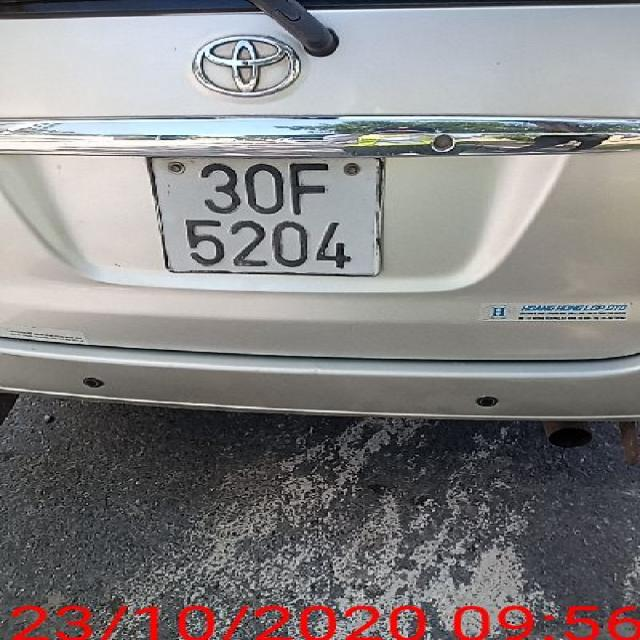car_plate: (134, 156, 393, 280)
